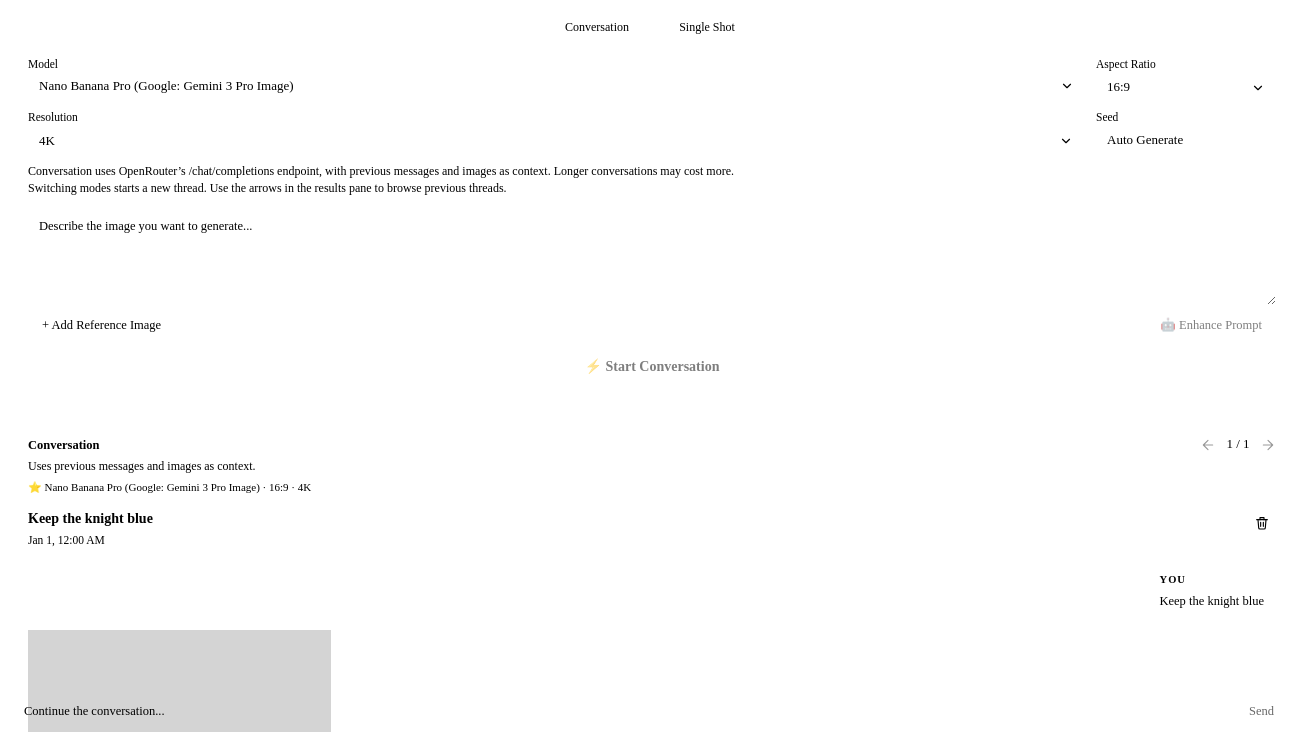
Test case: the Image tab › renders an accessible mode control and keeps the archived thread’s own description
Click the button "Single Shot".
click(707, 28)  # box x1=652 y1=12 x2=762 y2=44
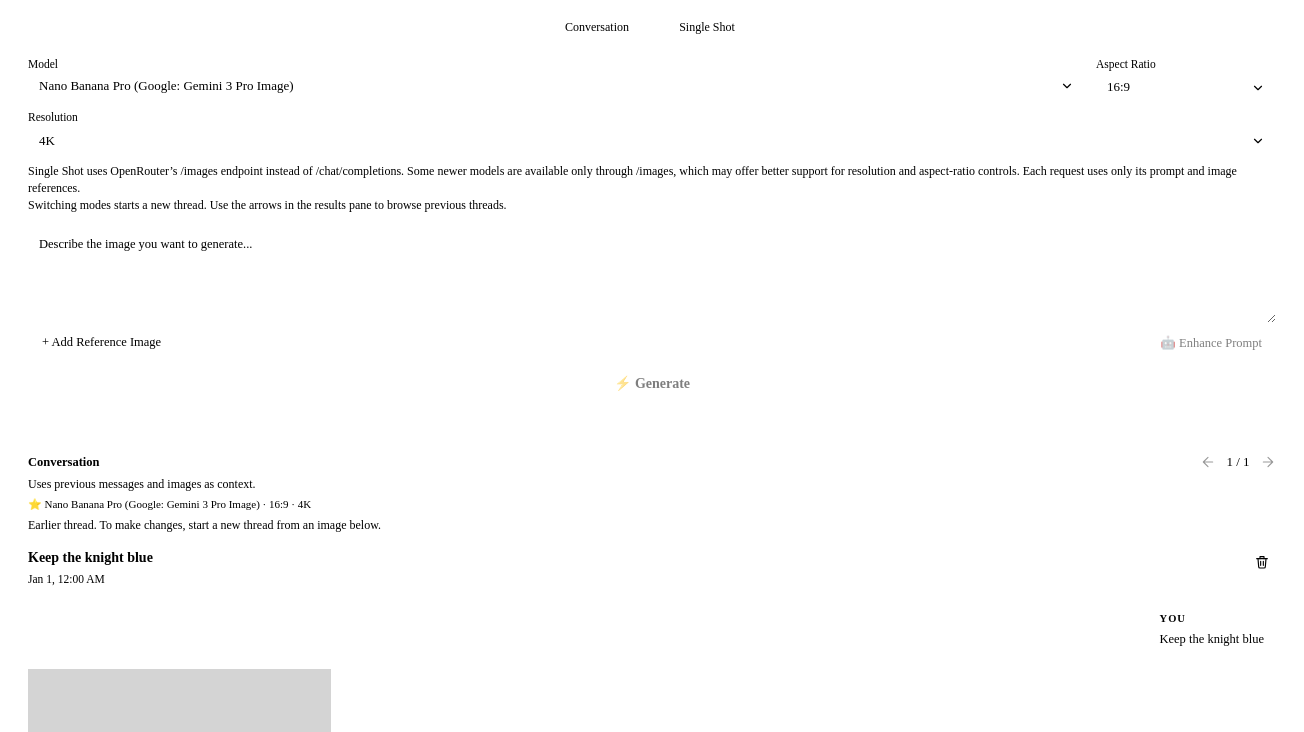
expect the heading "Conversation" is shown: met, box x1=28 y1=453 x2=100 y2=471
expect the text "Earlier thread. To make changes" is shown: met, box x1=28 y1=518 x2=381 y2=532
expect the button named "Delete thread" is shown: met, box x1=1248 y1=548 x2=1276 y2=576
